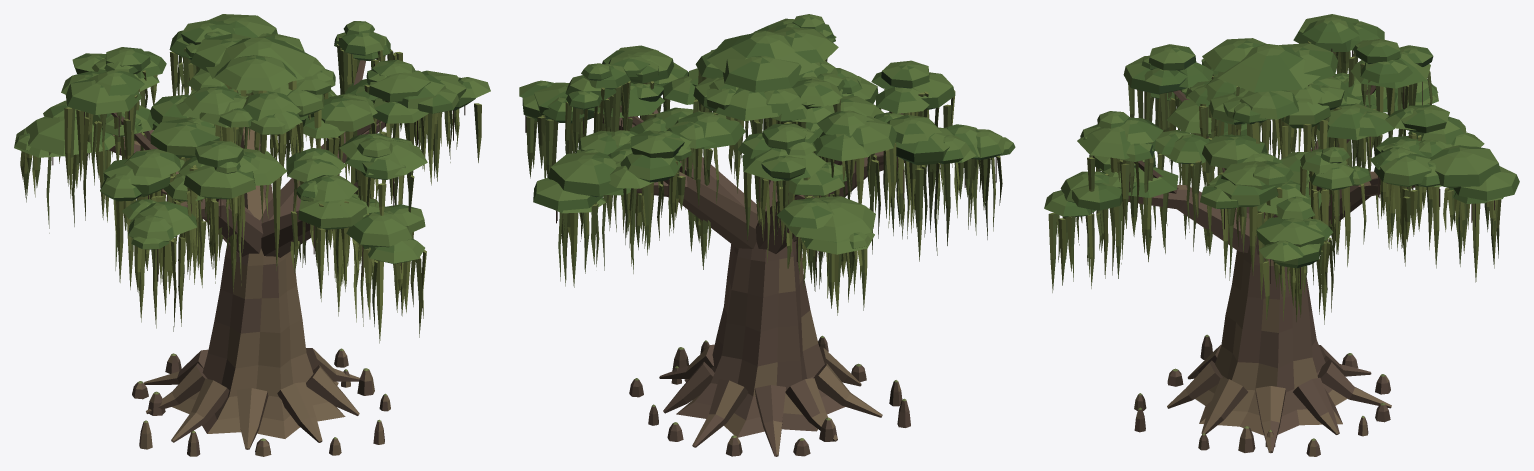
Rendered from landmark.glb.
3 renders of one model, left to right at view 1: azimuth 30°, elevation 25°; view 2: azimuth 150°, elevation 25°; view 3: azimuth 270°, elevation 25°, orthographic. The views are drawn at different scales.
Parts seen in each view (by area): view 1: cypress; view 2: cypress; view 3: cypress.
Part boxes in pixels (bbox=[...]): cypress: bbox=[14, 14, 490, 456]; cypress: bbox=[519, 14, 1015, 456]; cypress: bbox=[1044, 14, 1519, 456].
Bounding box in the file's own units: 48.92 × 40.52 × 49.07.
Materials: 1 (1 with a texture image).
